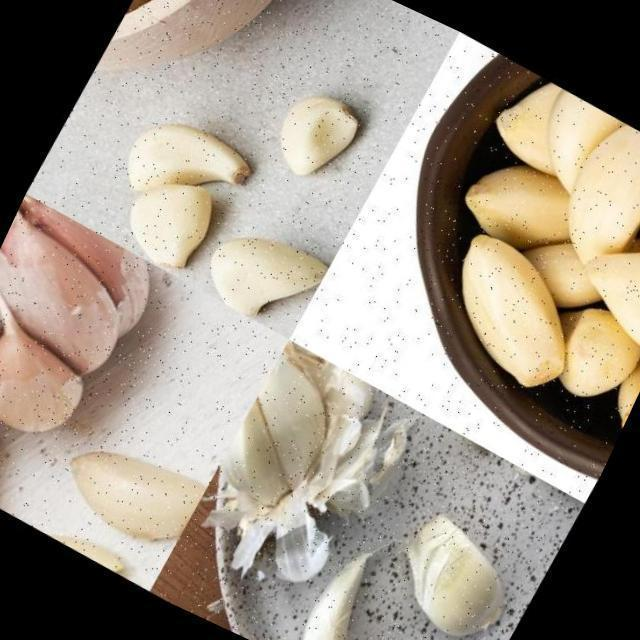garlic: (0, 193, 177, 475), (201, 334, 387, 548), (406, 216, 608, 406), (80, 95, 264, 288), (42, 416, 212, 562), (377, 498, 537, 640), (446, 136, 592, 272), (192, 210, 332, 340), (516, 86, 640, 221), (284, 525, 408, 640), (557, 195, 640, 356), (258, 76, 370, 195), (17, 499, 141, 578)
